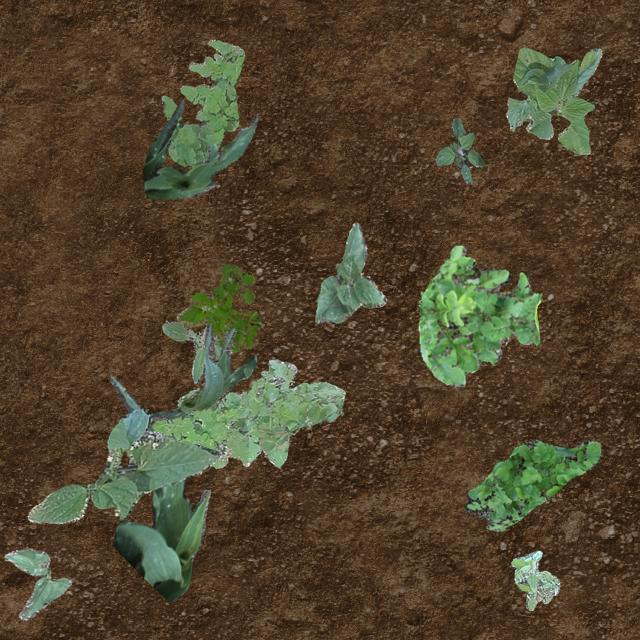crop: (109, 374, 210, 600), (27, 408, 220, 522), (142, 100, 256, 198), (148, 322, 255, 420), (504, 46, 600, 154), (314, 222, 386, 324), (4, 546, 70, 620)
weed: (150, 358, 344, 468), (418, 244, 540, 386), (464, 438, 600, 530), (160, 38, 243, 165), (176, 262, 260, 352), (162, 321, 222, 382), (434, 118, 484, 182), (509, 550, 558, 610)
